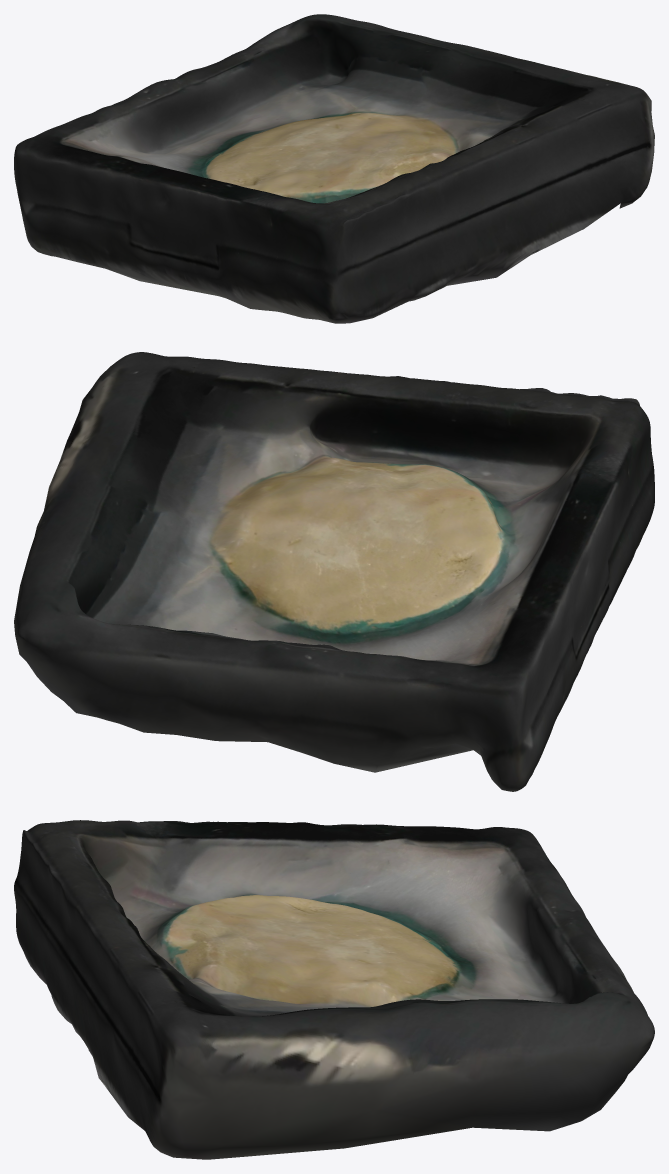
3 renders of one model, top to bottom at view 1: azimuth 30°, elevation 25°; view 2: azimuth 150°, elevation 25°; view 3: azimuth 270°, elevation 25°, orthographic. The views are drawn at different scales.
Bounding box in the file's own units: 0.8911 × 0.2881 × 0.861.
Materials: 1 (1 with a texture image).
